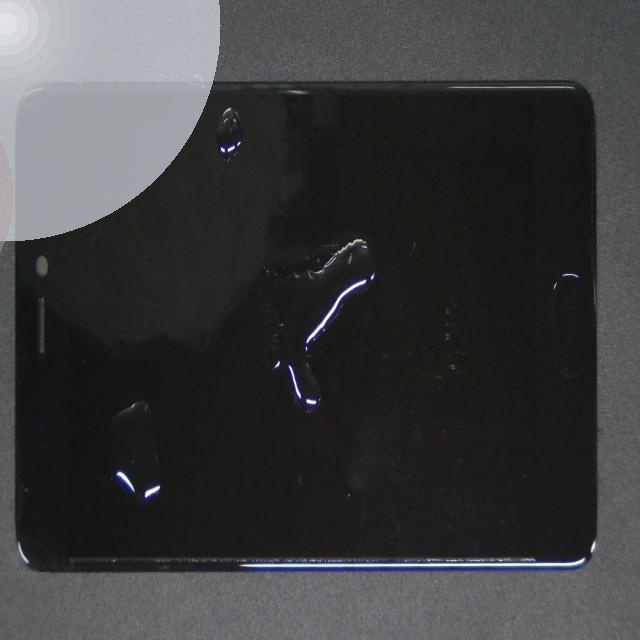oil: (116, 187, 409, 572), (105, 237, 248, 624), (140, 52, 360, 141)
